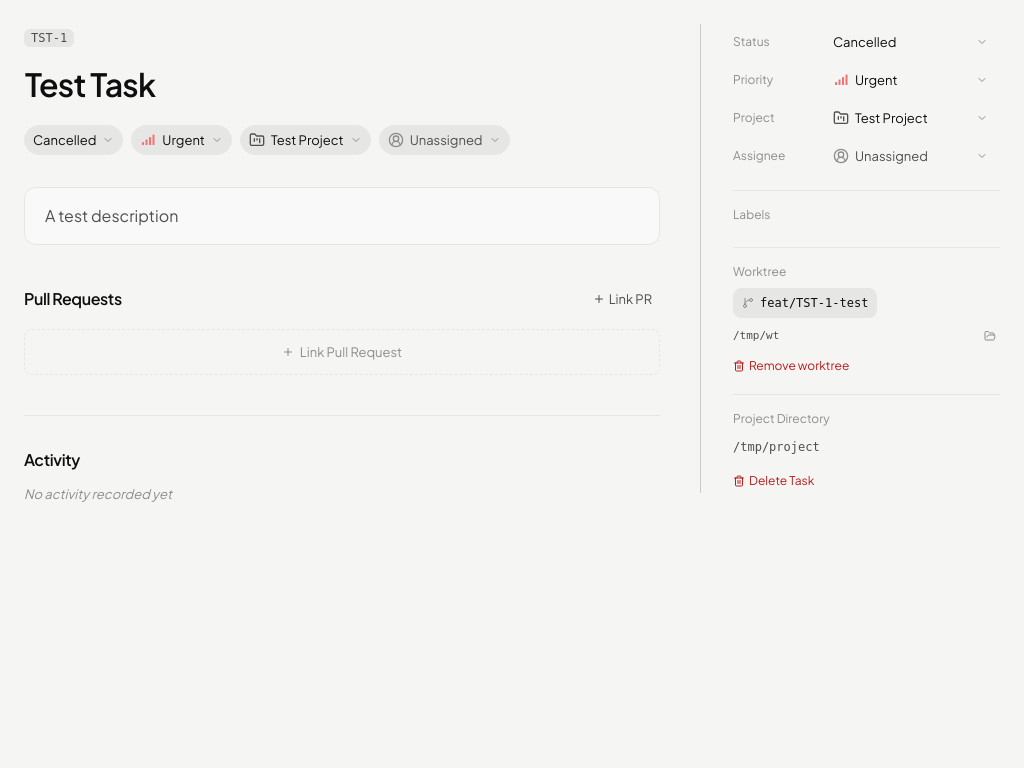
Test: TaskDetail › worktree info › opens confirmation dialog when remove is clicked
This screenshot has width=1024, height=768.
Click the button "Remove worktree": [791, 366] box [725, 354, 857, 378]
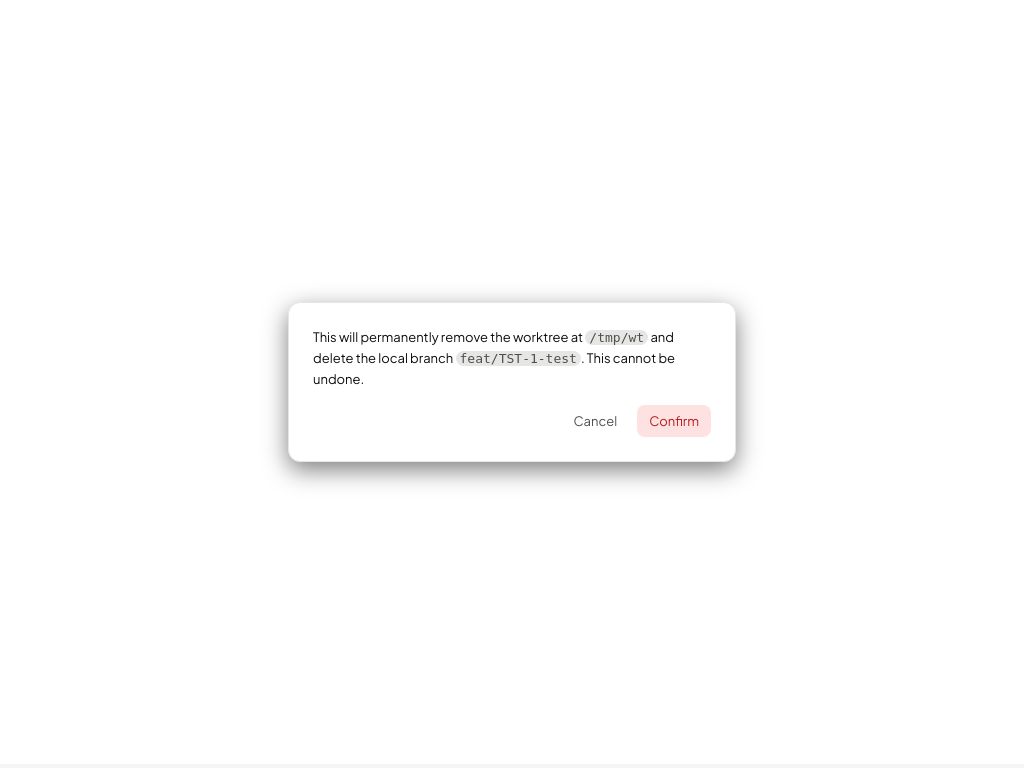
Expected: the text "This will permanently remove" is shown, [313, 329, 583, 345]
Expected: the button "Cancel" is shown, [562, 405, 629, 437]
Expected: the button "Confirm" is shown, [637, 405, 711, 437]
